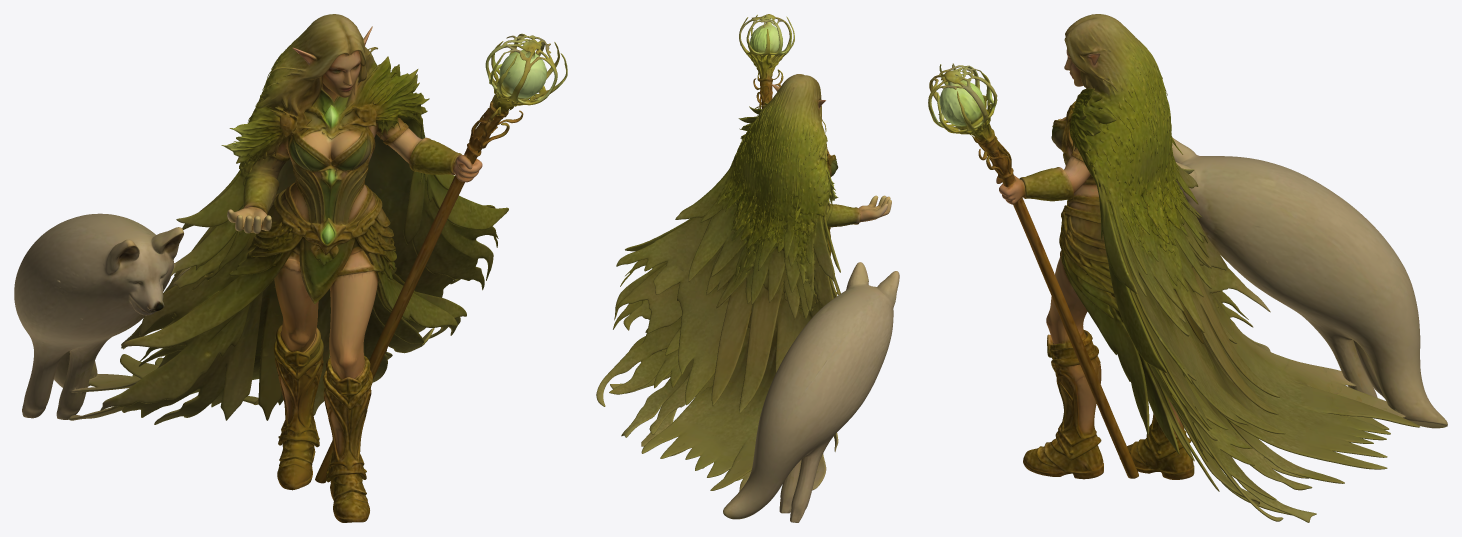
File: elf_druid_full_female_01.glb
3 renders of one model, left to right at view 1: azimuth 30°, elevation 25°; view 2: azimuth 150°, elevation 25°; view 3: azimuth 270°, elevation 25°, orthographic. The views are drawn at different scales.
Parts seen in each view (by area): view 1: material; view 2: material; view 3: material.
Part boxes in pixels (x1,y1,x2,y2): material: (14, 14, 567, 522); material: (596, 14, 899, 522); material: (928, 14, 1447, 522).
Bounding box in the file's own units: 0.7197 × 0.808 × 0.8284.
1 material, 1 textured.
